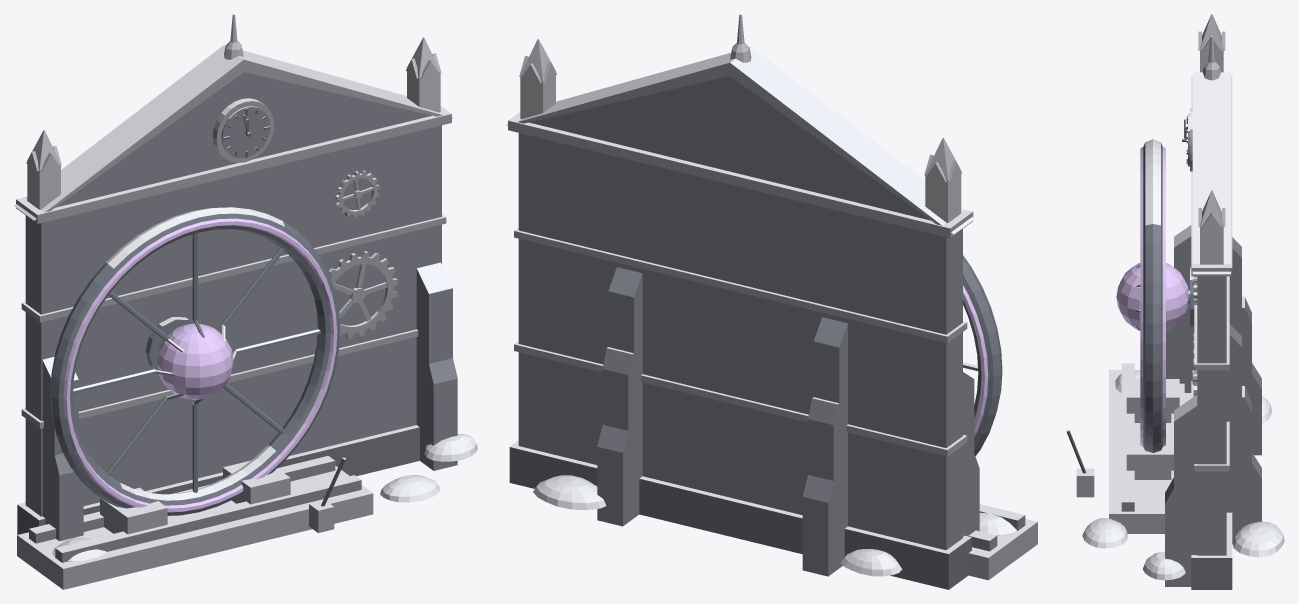
Rendered from AR_Casa_Coracao.fbx.
3 views of the same model, side by side, from view 1: azimuth 30°, elevation 25°; view 2: azimuth 150°, elevation 25°; view 3: azimuth 270°, elevation 25° (orthographic). The views are drawn at different scales.
Parts seen in each view (by area): view 1: AR_Casa_Coracao; view 2: AR_Casa_Coracao; view 3: AR_Casa_Coracao.
Boxes of the visible parts, bbox=[...] form: AR_Casa_Coracao: bbox=[14, 14, 477, 589]; AR_Casa_Coracao: bbox=[506, 14, 1037, 589]; AR_Casa_Coracao: bbox=[1066, 14, 1284, 589].
Size of the model in its own units: 16.51 by 17.2 by 7.44.
